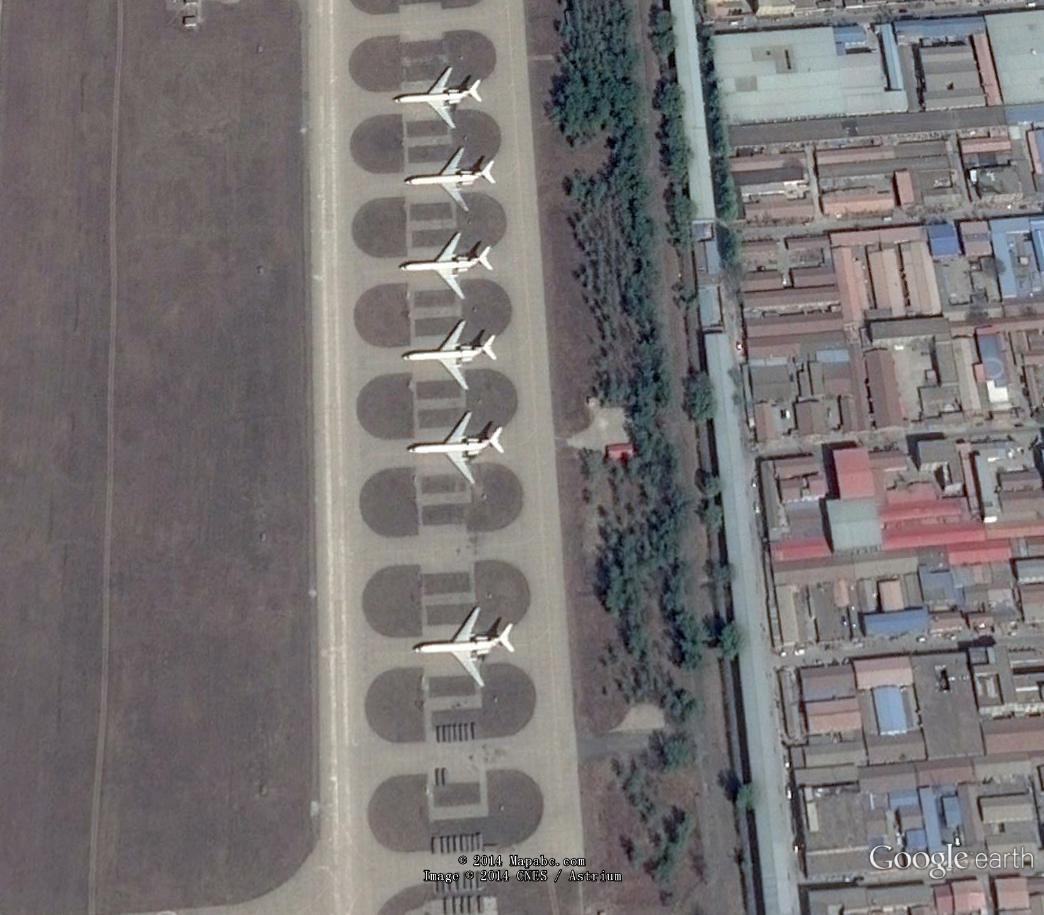aircraft: (409, 604, 522, 697), (403, 408, 510, 493), (399, 318, 501, 394), (399, 144, 502, 217), (396, 228, 496, 301), (390, 63, 486, 133)
